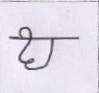i_matra: (17, 26, 32, 65)
